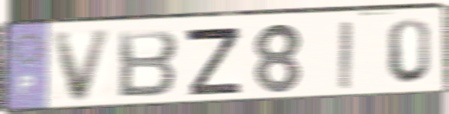0: (383, 18, 432, 88)
8: (252, 21, 305, 96)
B: (115, 28, 180, 101)
I: (337, 19, 356, 92)
V: (50, 28, 116, 106)
Z: (182, 25, 244, 98)
